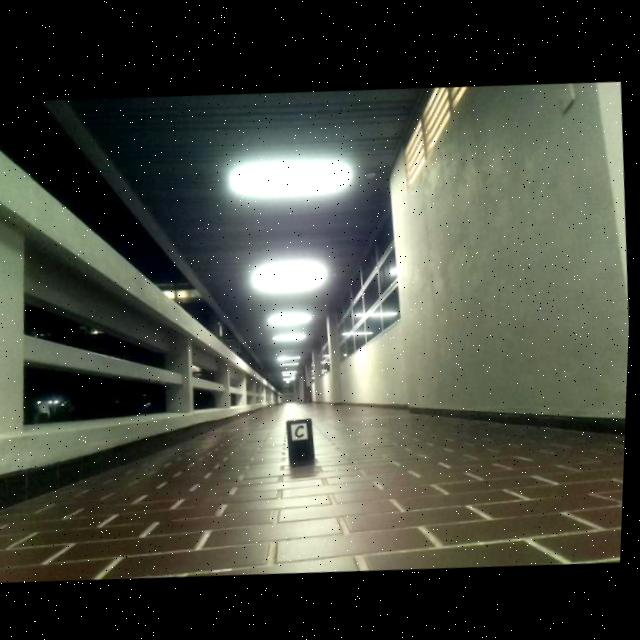C: (299, 422, 307, 435)
